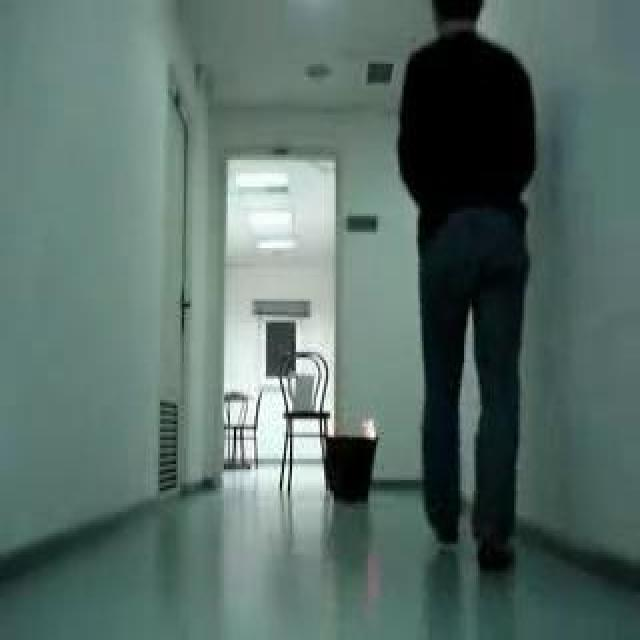Fire: (359, 416, 379, 440)
